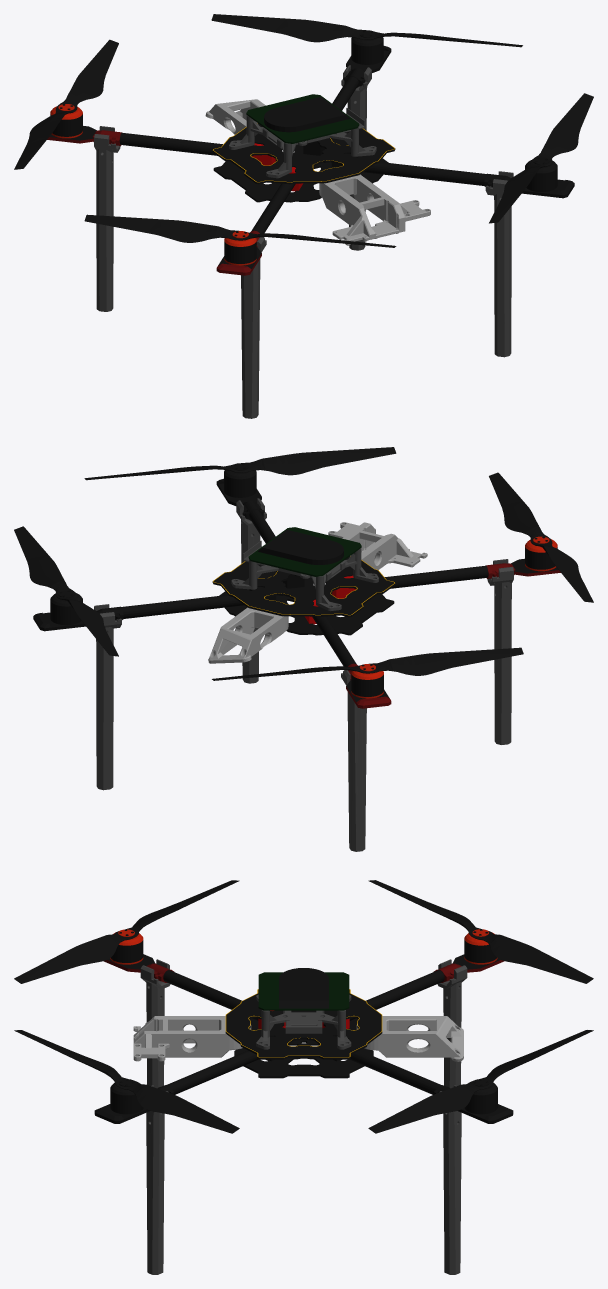
File: tarot_simplificado.obj
3 renders of one model, top to bottom at view 1: azimuth 30°, elevation 25°; view 2: azimuth 150°, elevation 25°; view 3: azimuth 270°, elevation 25°, orthographic.
Visible parts, largest first — view 1: Object.1, Object.2, Object.5, Object.4, Object.3, Object.6; view 2: Object.1, Object.2, Object.3, Object.6, Object.4, Object.5; view 3: Object.1, Object.2, Object.4, Object.3, Object.6, Object.5.
Boxes of the visible parts, x1=… form: Object.1: x1=47, y1=37, x2=574, y2=418; Object.2: x1=229, y1=94, x2=376, y2=178; Object.5: x1=211, y1=14, x2=522, y2=47; Object.4: x1=84, y1=214, x2=396, y2=247; Object.3: x1=14, y1=39, x2=118, y2=169; Object.6: x1=489, y1=93, x2=593, y2=223; Object.1: x1=33, y1=470, x2=560, y2=851; Object.2: x1=231, y1=527, x2=378, y2=611; Object.3: x1=212, y1=647, x2=523, y2=680; Object.6: x1=84, y1=447, x2=396, y2=480; Object.4: x1=489, y1=472, x2=593, y2=602; Object.5: x1=14, y1=526, x2=118, y2=656; Object.1: x1=94, y1=932, x2=513, y2=1274; Object.2: x1=256, y1=968, x2=351, y2=1049; Object.4: x1=14, y1=880, x2=239, y2=983; Object.3: x1=368, y1=880, x2=593, y2=983; Object.6: x1=14, y1=1030, x2=239, y2=1133; Object.5: x1=368, y1=1030, x2=593, y2=1133.
Bounding box in the file's own units: 719 × 294 × 695.
